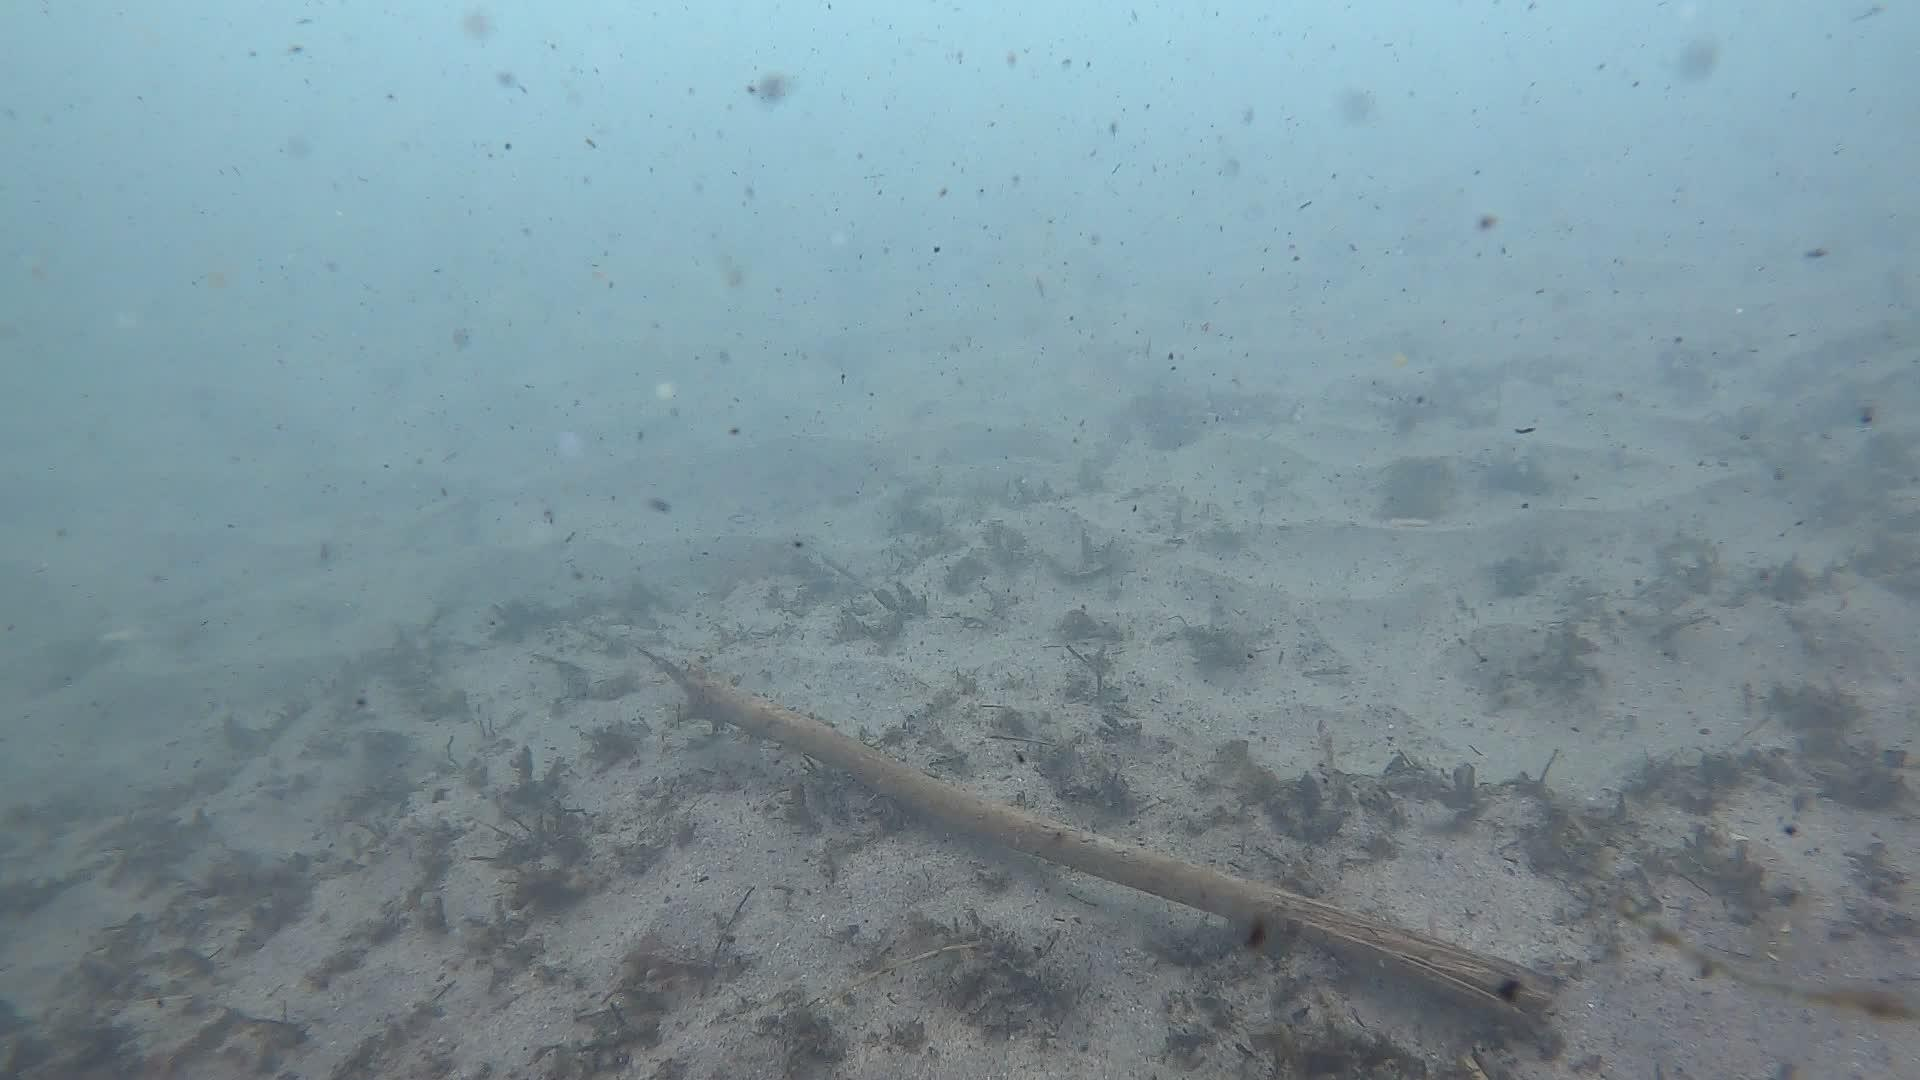wood: (632, 642, 1563, 1030)
